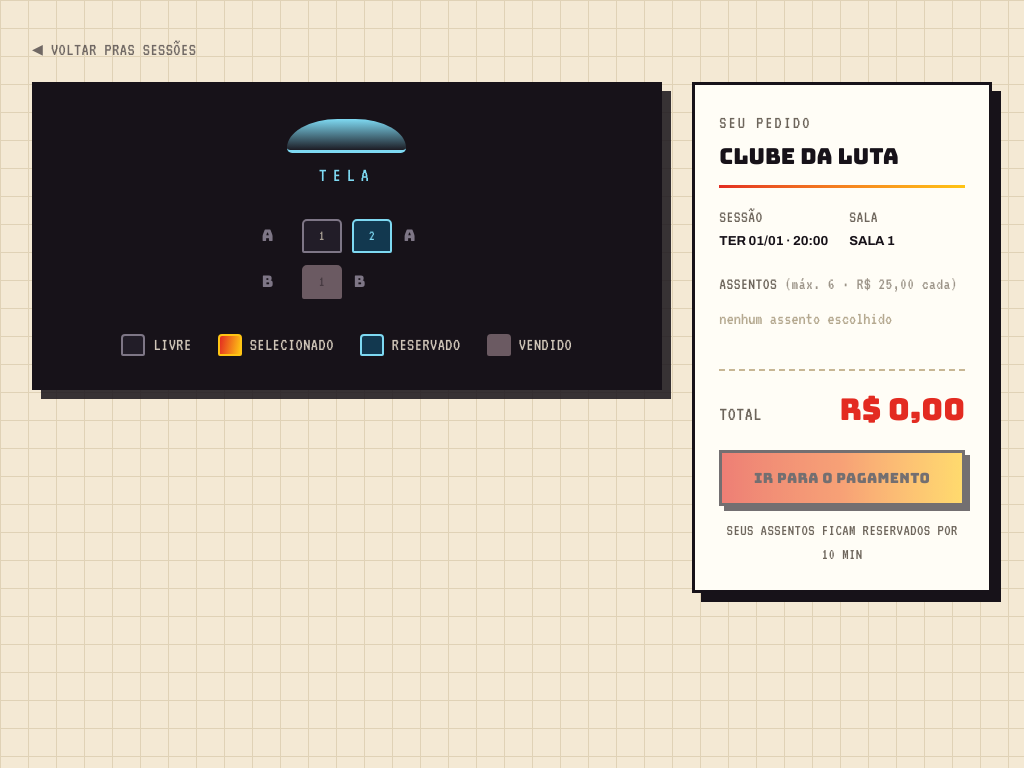
MapaAssentosPage › turns the seat map into a terminal screen with a way out on a 409 SESSAO_JA_COMECOU
Step 1. Click the button named "Assento A1 — livre" → (322, 236), box [302,219,342,253]
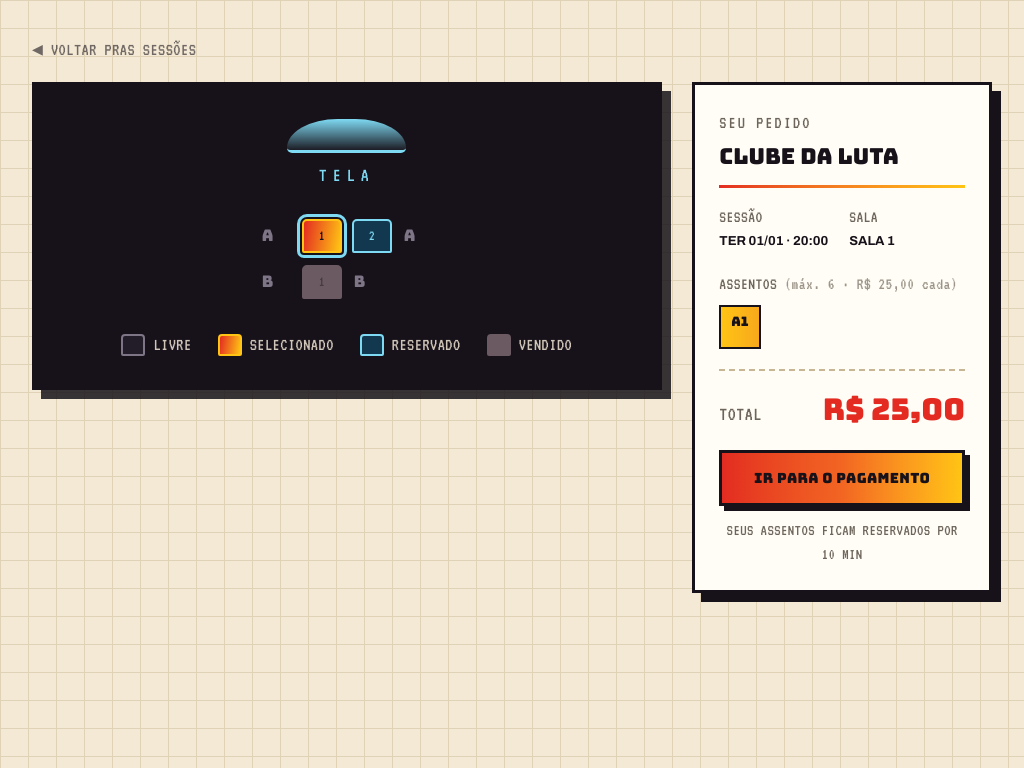
Step 2. Click the button "IR PARA O PAGAMENTO" → (842, 478), box [719,450,965,506]
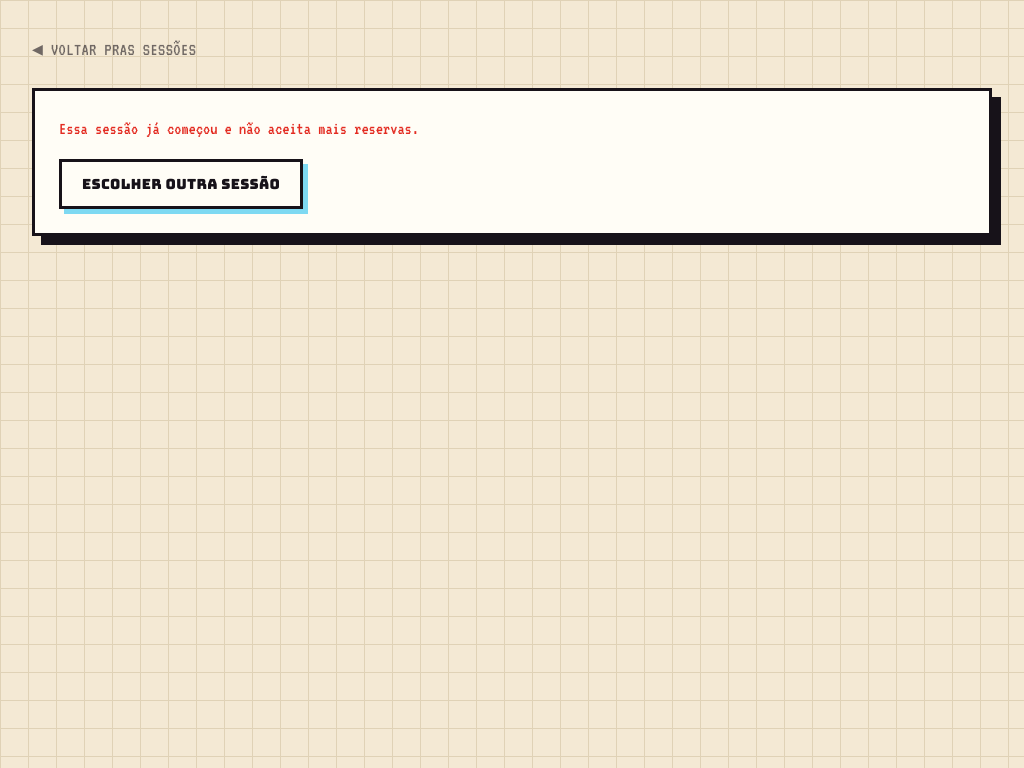
Now the message shows "sessão já começou", box [59,120,419,138]
Now the button "IR PARA O PAGAMENTO" is gone
Now the link "ESCOLHER OUTRA SESSÃO" is shown, box [59,159,303,209]
